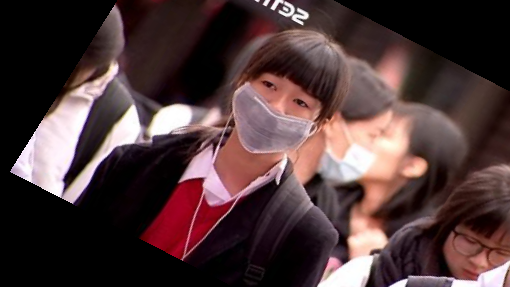mask_weared_incorrect: (222, 23, 366, 174)
